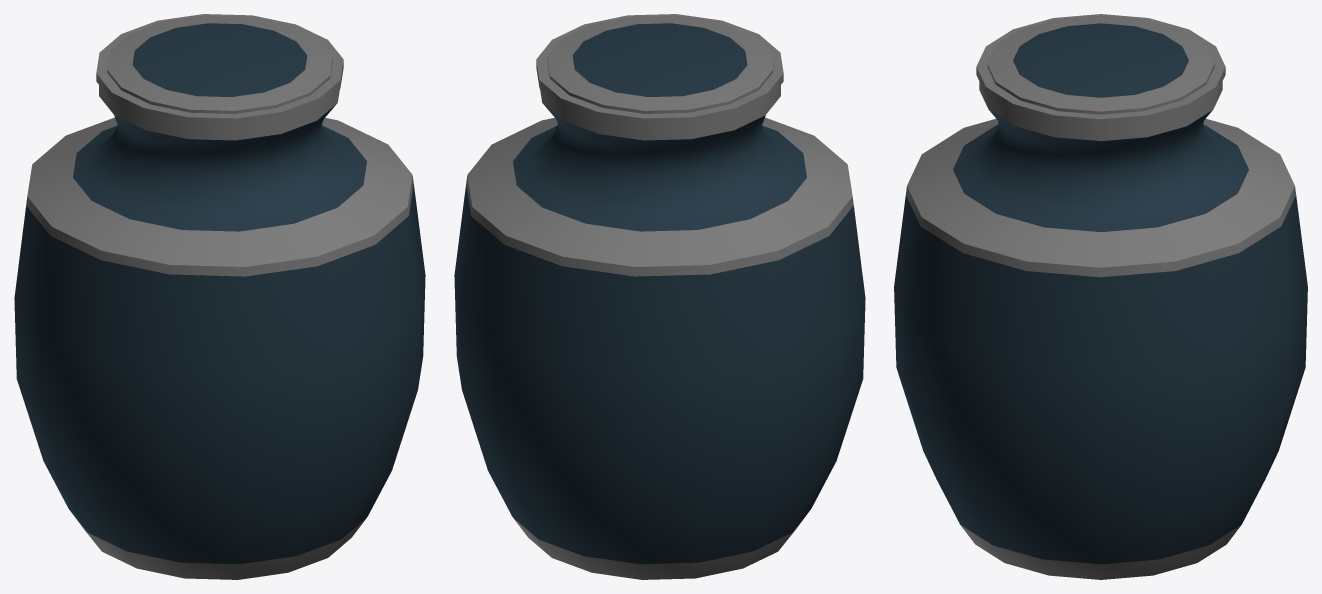
File: Urn.glb
3 renders of one model, left to right at view 1: azimuth 30°, elevation 25°; view 2: azimuth 150°, elevation 25°; view 3: azimuth 270°, elevation 25°, orthographic.
Parts seen in each view (by area): view 1: Cylinder.001; view 2: Cylinder.001; view 3: Cylinder.001.
Part boxes in pixels (x1,y1,x2,y2): Cylinder.001: [14, 14, 425, 579]; Cylinder.001: [454, 14, 865, 579]; Cylinder.001: [894, 14, 1307, 579].
Size of the model in its own units: 0.4054 by 0.5028 by 0.4054.
